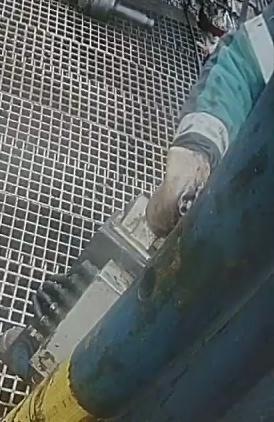gloves: (144, 145, 211, 238)
